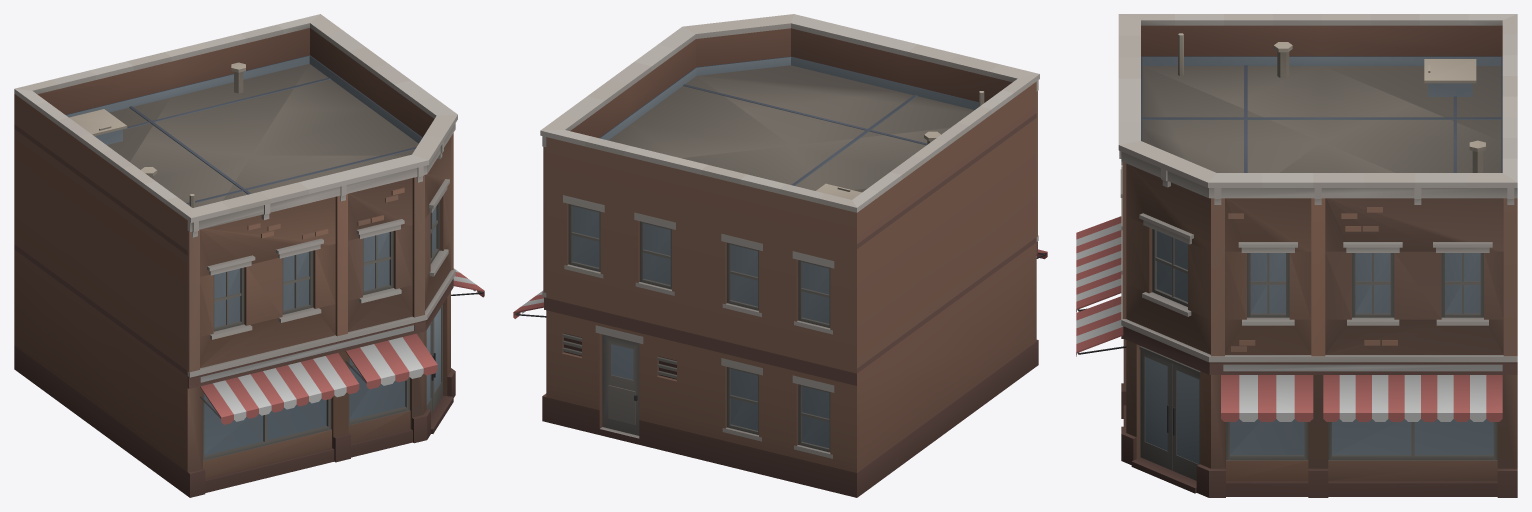
The model's file is cornershop.glb.
3 renders of one model, left to right at view 1: azimuth 30°, elevation 25°; view 2: azimuth 150°, elevation 25°; view 3: azimuth 270°, elevation 25°, orthographic. The views are drawn at different scales.
Visible parts, largest first — view 1: cornershop; view 2: cornershop; view 3: cornershop.
Part boxes in pixels (left/top/right/bottom): cornershop: left=14, top=14, right=484, bottom=497; cornershop: left=513, top=14, right=1047, bottom=497; cornershop: left=1076, top=14, right=1517, bottom=497.
Bounding box in the file's own units: 8.85 × 7 × 8.85.
